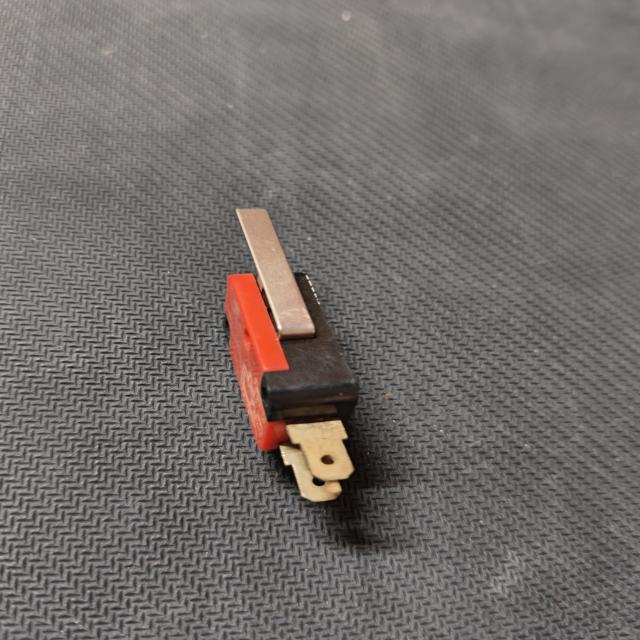switch: (196, 200, 391, 511)
